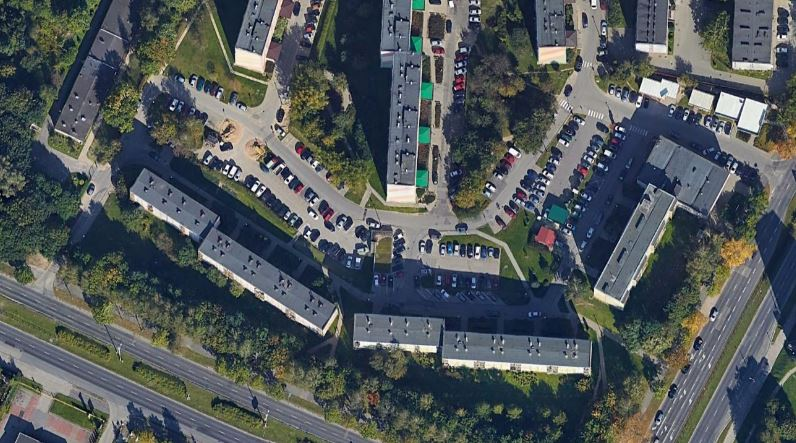block of flats: (126, 166, 341, 341), (348, 307, 611, 389), (42, 1, 158, 143), (375, 1, 444, 218), (585, 183, 679, 314), (222, 1, 294, 77), (728, 1, 783, 73), (525, 1, 582, 69), (631, 1, 682, 55)
shopping_center: (622, 133, 738, 220)
